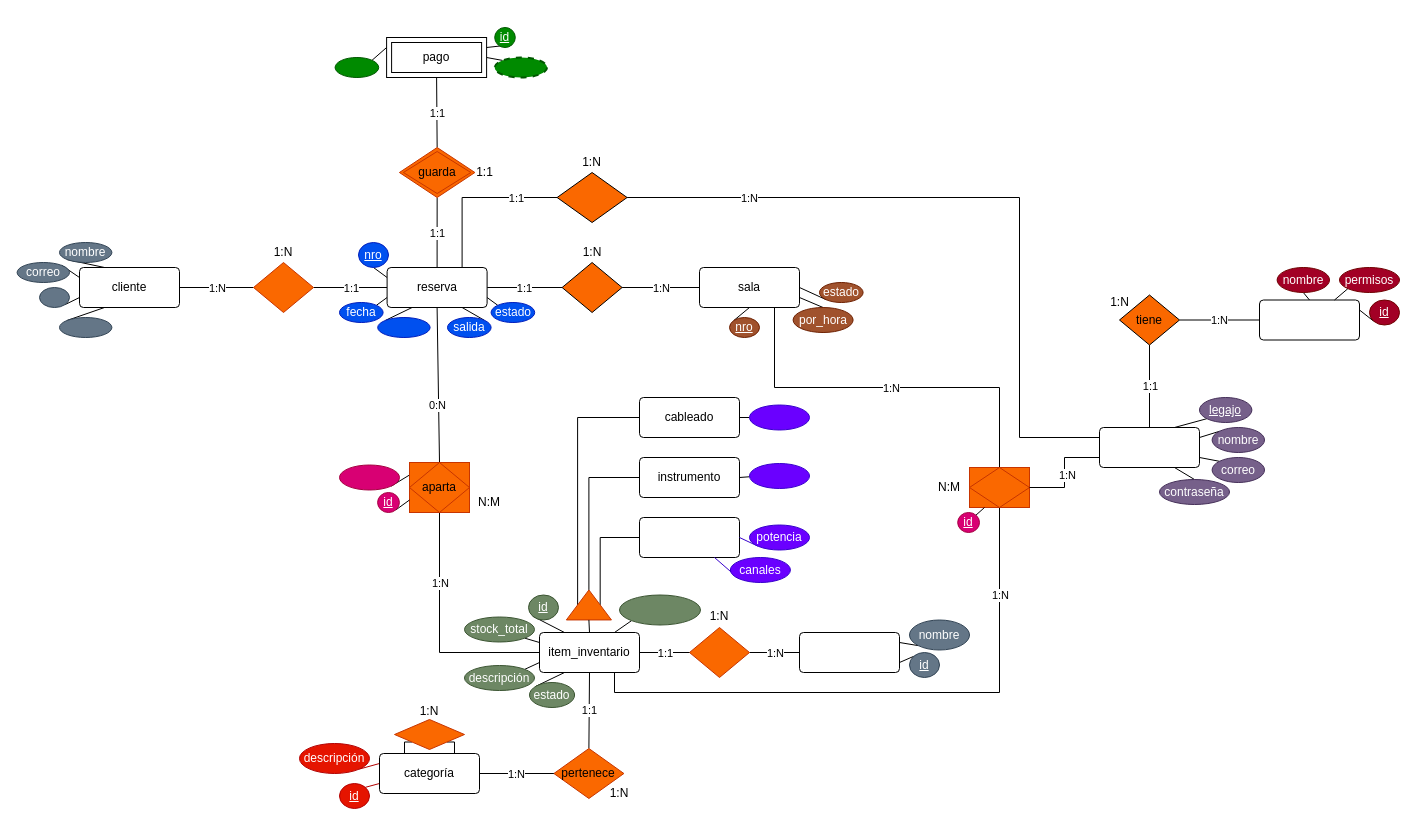
Image size: 1418x826. Some labels were removed from this diagram. The centre of each missing label's shape, as x and y in pixels:
"afinación" belongs at point (779, 475).
"asigna" belongs at point (591, 287).
"cantidad" belongs at point (369, 477).
"contiene" belongs at point (429, 734).
"controla" belongs at point (999, 487).
"costo_alquiler" belongs at point (659, 609).
"dni" belongs at point (54, 297).
"empleado" belongs at point (1149, 447).
"entrada" belongs at point (403, 327).
"equipo_audio" belongs at point (689, 537).
"fabricante" belongs at point (849, 652).
"gestiona" belongs at point (591, 197).
"hace" belongs at point (283, 287).
"largo_mts" belongs at point (779, 417).
"medio" belongs at point (356, 67).
"P/E" belongs at point (588, 604).
"provee" belongs at point (719, 652).
"rol" belongs at point (1309, 319).
"teléfono" belongs at point (85, 327).
"total" belongs at point (520, 67).
